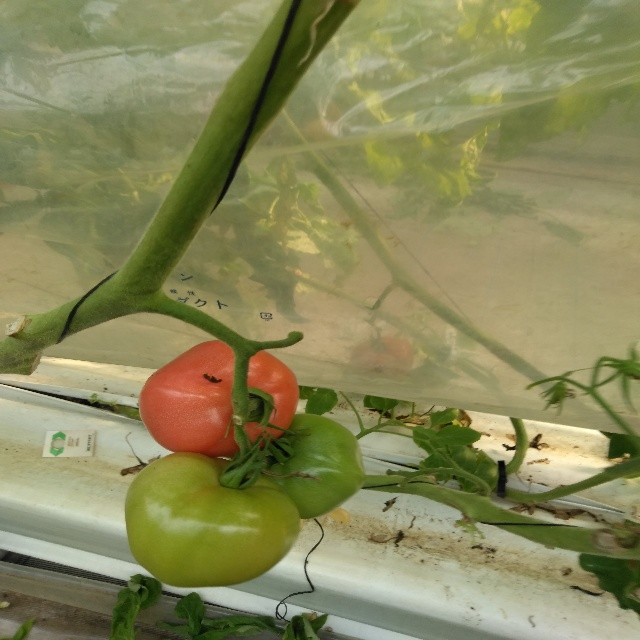b_fully_ripened: (138, 338, 299, 457)
b_green: (125, 452, 302, 588), (245, 413, 367, 519)
